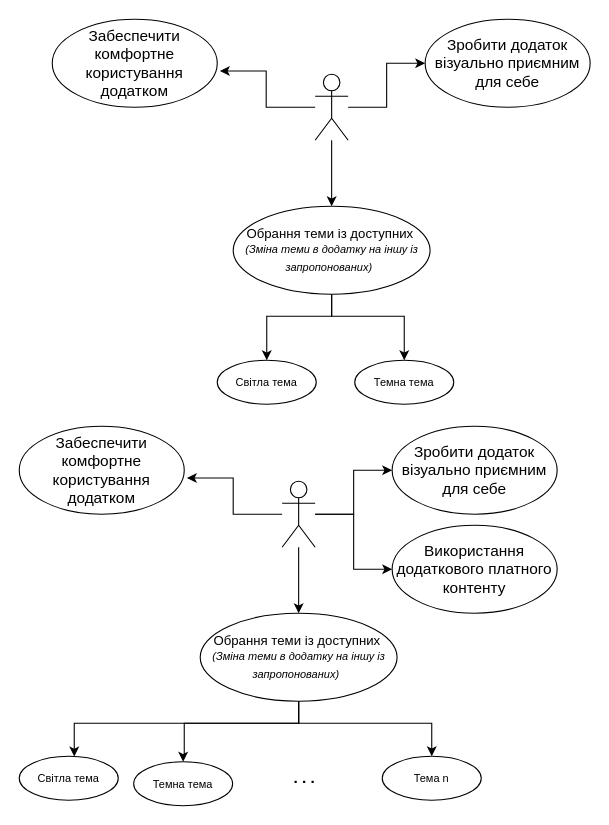
This 609x825 diagram has some shape labels left out. Each missing label, with the centre of its shape:
VIP користувач: point (298, 513)
звичайний користувач: point (331, 106)
